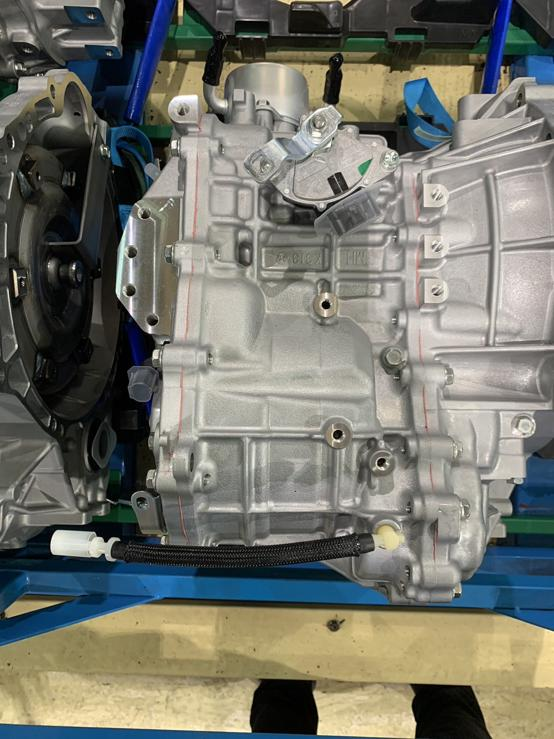gearbox_type1: (104, 74, 553, 571)
gearbox_type1_FP1: (422, 179, 451, 215)
gearbox_type1_FP2: (419, 234, 451, 262)
gearbox_type1_FP3: (169, 91, 201, 128)
